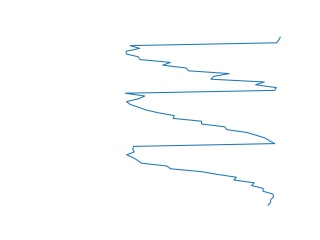distributaryMouthBar: (122, 37, 283, 208)
